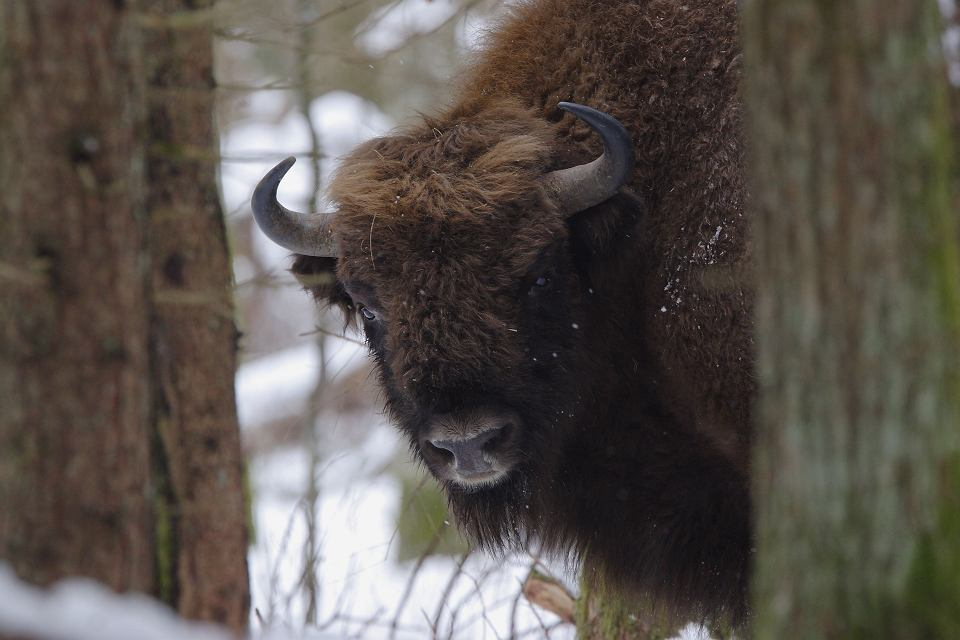zubr: (241, 7, 960, 605)
